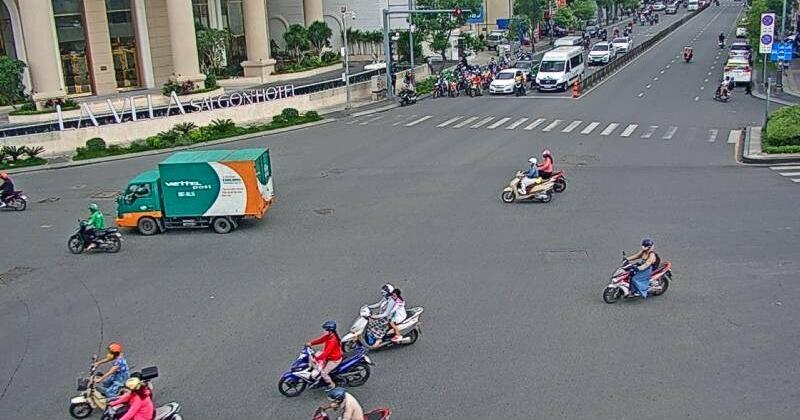xe may: (276, 319, 369, 398), (69, 342, 159, 418), (340, 281, 424, 354), (603, 236, 670, 304), (65, 201, 121, 254), (501, 154, 551, 204), (526, 147, 566, 192)
xe tai: (113, 151, 270, 230)
